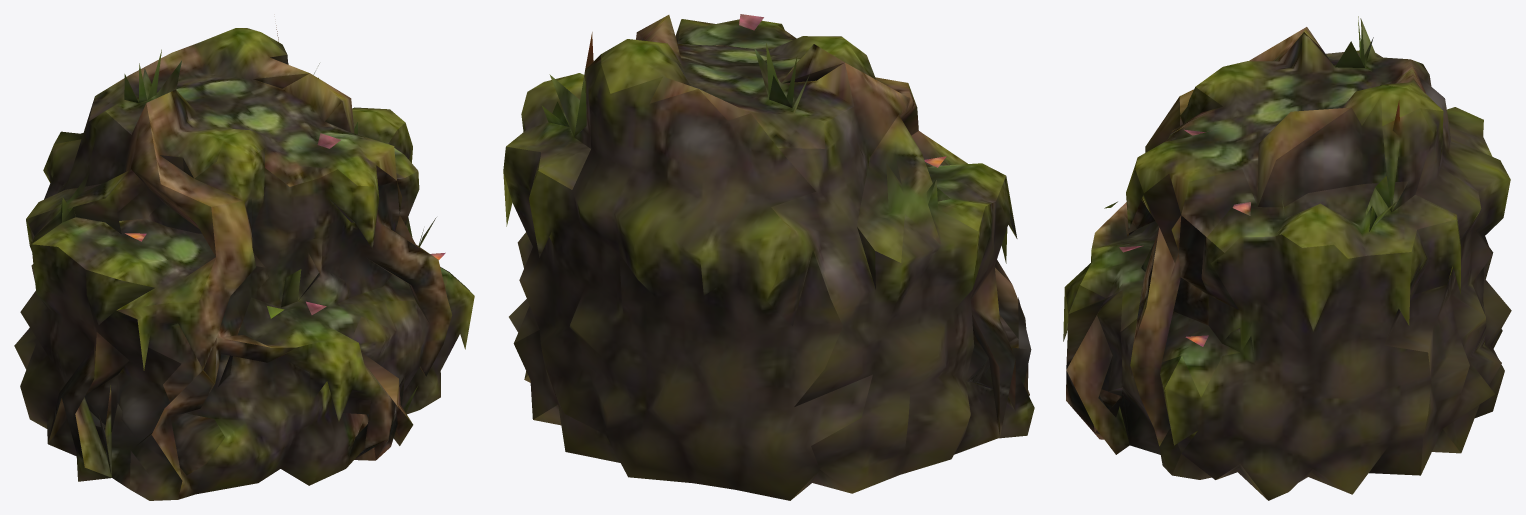
Rendered from d_marais_massif.glb.
3 renders of one model, left to right at view 1: azimuth 30°, elevation 25°; view 2: azimuth 150°, elevation 25°; view 3: azimuth 270°, elevation 25°, orthographic. The views are drawn at different scales.
Parts seen in each view (by area): view 1: geometry_0; view 2: geometry_0; view 3: geometry_0.
Part boxes in pixels (x1,y1,x2,y2): geometry_0: [14, 25, 474, 500]; geometry_0: [503, 14, 1034, 500]; geometry_0: [1063, 16, 1511, 500].
Size of the model in its own units: 0.9817 by 0.8554 by 0.9168.
Materials: 1 (1 with a texture image).
